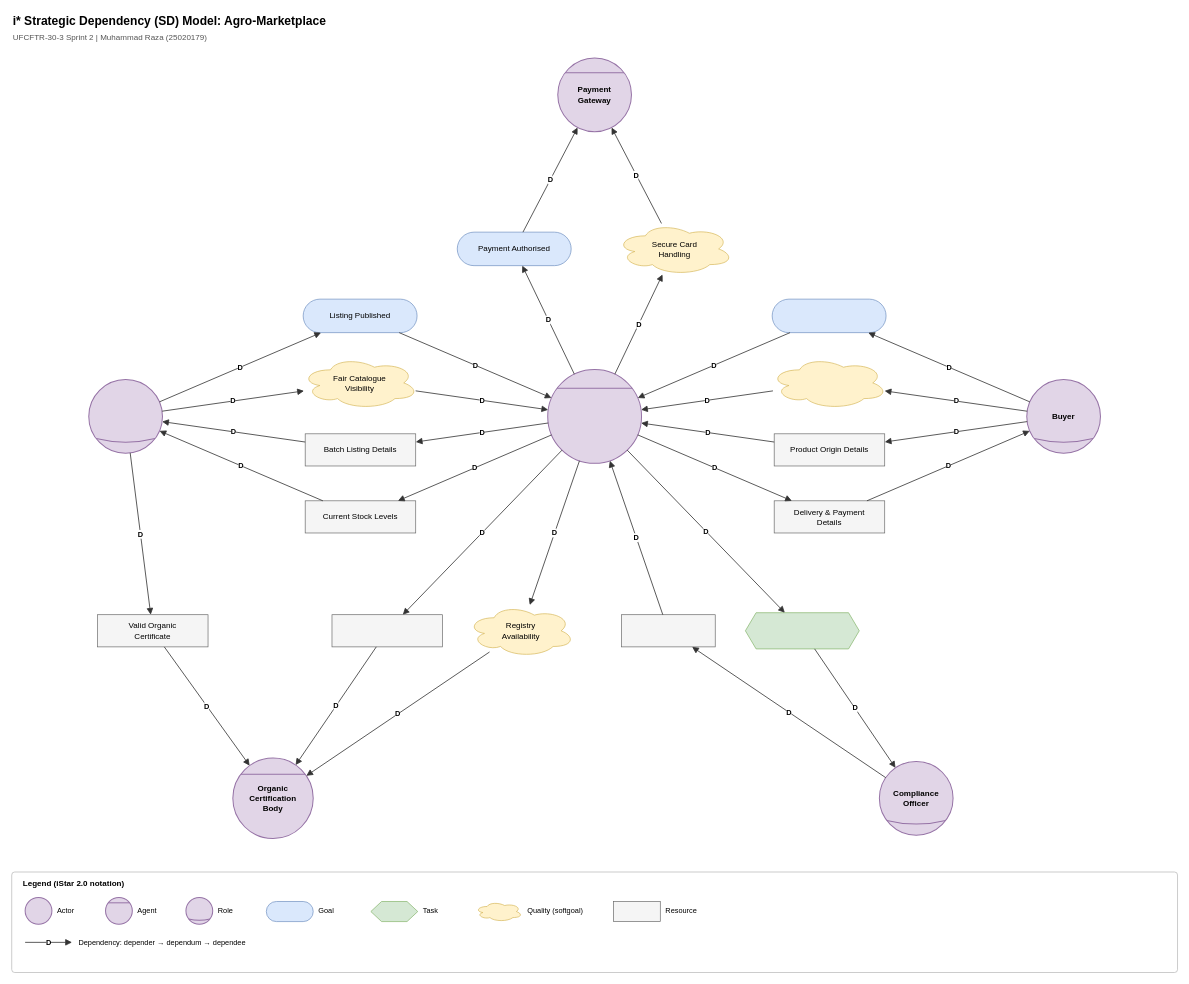
Image size: 1189x984. Some labels were removed from this diagram. The centre of each missing label's shape, as x and y in pixels:
Audit Case File: (x=668, y=630)
Licence Status Record: (x=387, y=630)
Marketplace Platform: (x=594, y=416)
Order Placed: (x=829, y=315)
Producer: (x=125, y=416)
Review Flagged Listing: (x=802, y=630)
Trustworthy Organic Claims: (x=828, y=382)
